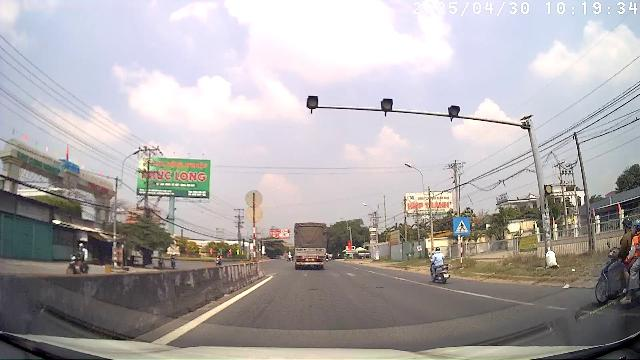423a-duong-nguoi-di-bo-sang-ngang-1: (454, 218, 470, 234)
